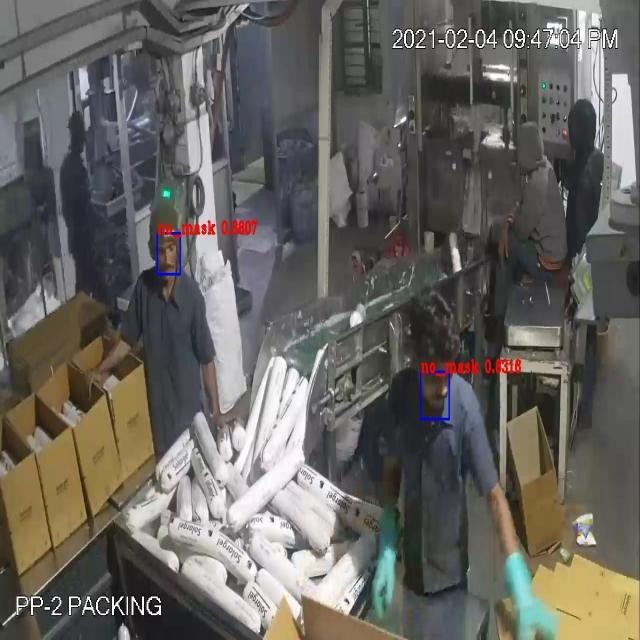No_Gloves: (28, 82, 528, 564)
